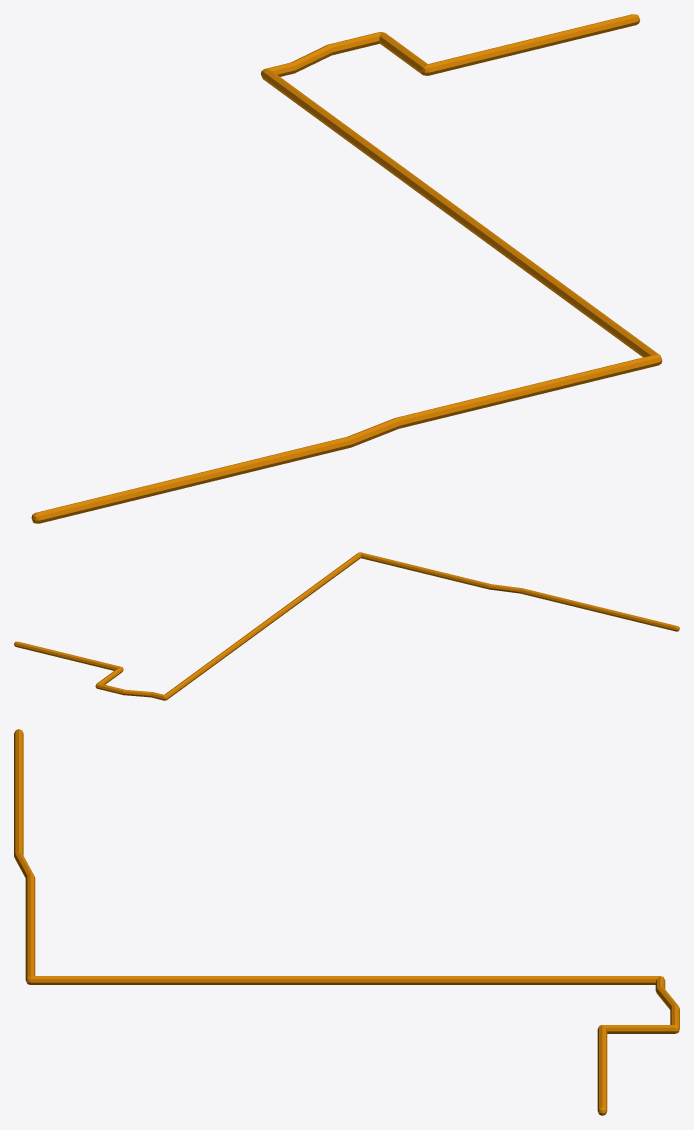
3 renders of one model, top to bottom at view 1: azimuth 30°, elevation 25°; view 2: azimuth 150°, elevation 25°; view 3: azimuth 270°, elevation 25°, orthographic. The views are drawn at different scales.
Size of the model in its own units: 1864 by 20 by 1375.
